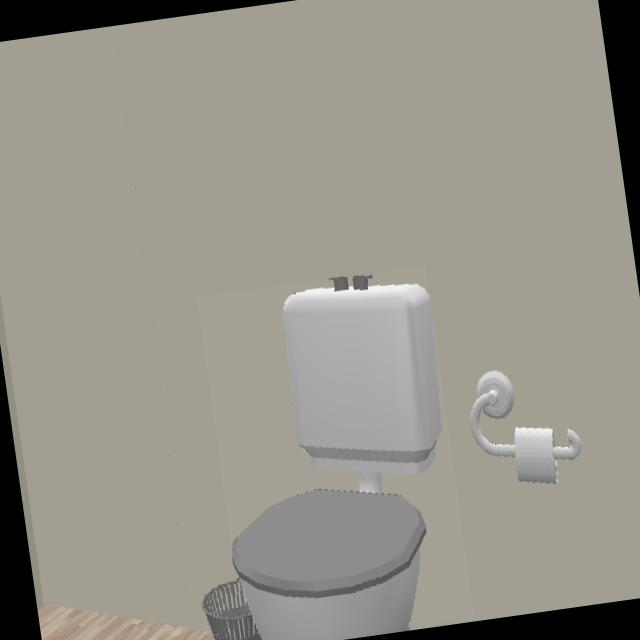toilet: (234, 278, 443, 640)
